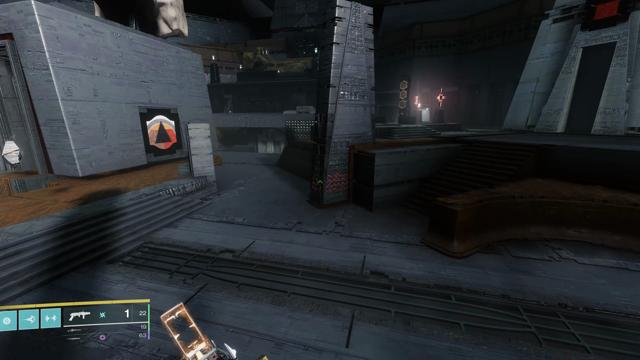pyramid: (147, 115, 177, 149)
